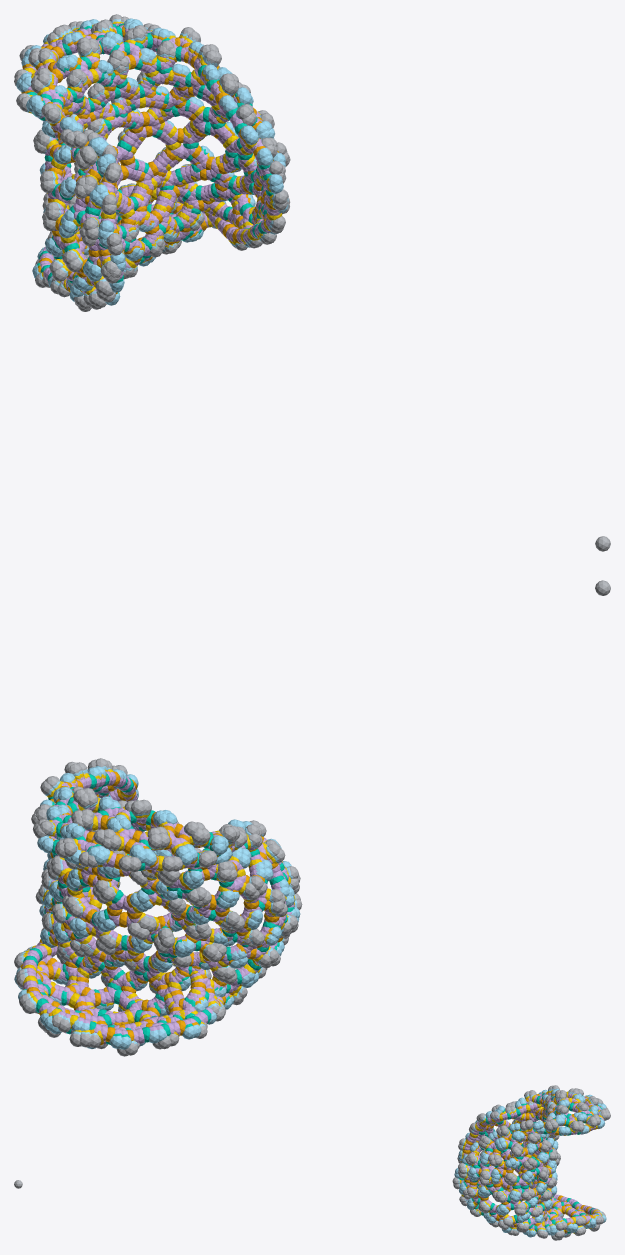
File: network_L5_d40.glb
The picture shows the model from 3 angles, top to bottom: view 1: azimuth 30°, elevation 25°; view 2: azimuth 150°, elevation 25°; view 3: azimuth 270°, elevation 25°; orthographic projection. The views are drawn at different scales.
Parts seen in each view (by area): view 1: CZ, input, H, T, Y_1_2, X_1_2; view 2: input, CZ, H, Y_1_2, T, X_1_2; view 3: input, H, CZ, T, X_1_2, Y_1_2.
Part boxes in pixels (<box>): CZ: <box>23,23,280,293</box>; input: <box>14,14,610,551</box>; H: <box>16,18,288,305</box>; T: <box>24,21,282,294</box>; Y_1_2: <box>21,25,278,294</box>; X_1_2: <box>27,23,273,293</box>; input: <box>14,580,610,1056</box>; CZ: <box>22,771,294,1044</box>; H: <box>14,766,300,1049</box>; Y_1_2: <box>20,770,294,1045</box>; T: <box>22,769,295,1041</box>; X_1_2: <box>23,772,294,1044</box>; input: <box>14,1085,610,1240</box>; H: <box>454,1088,606,1237</box>; CZ: <box>461,1092,604,1233</box>; T: <box>459,1090,604,1233</box>; X_1_2: <box>459,1093,602,1233</box>; Y_1_2: <box>462,1092,602,1232</box>.
Bounding box in the file's own units: 0.5086 × 0.504 × 2.03.
